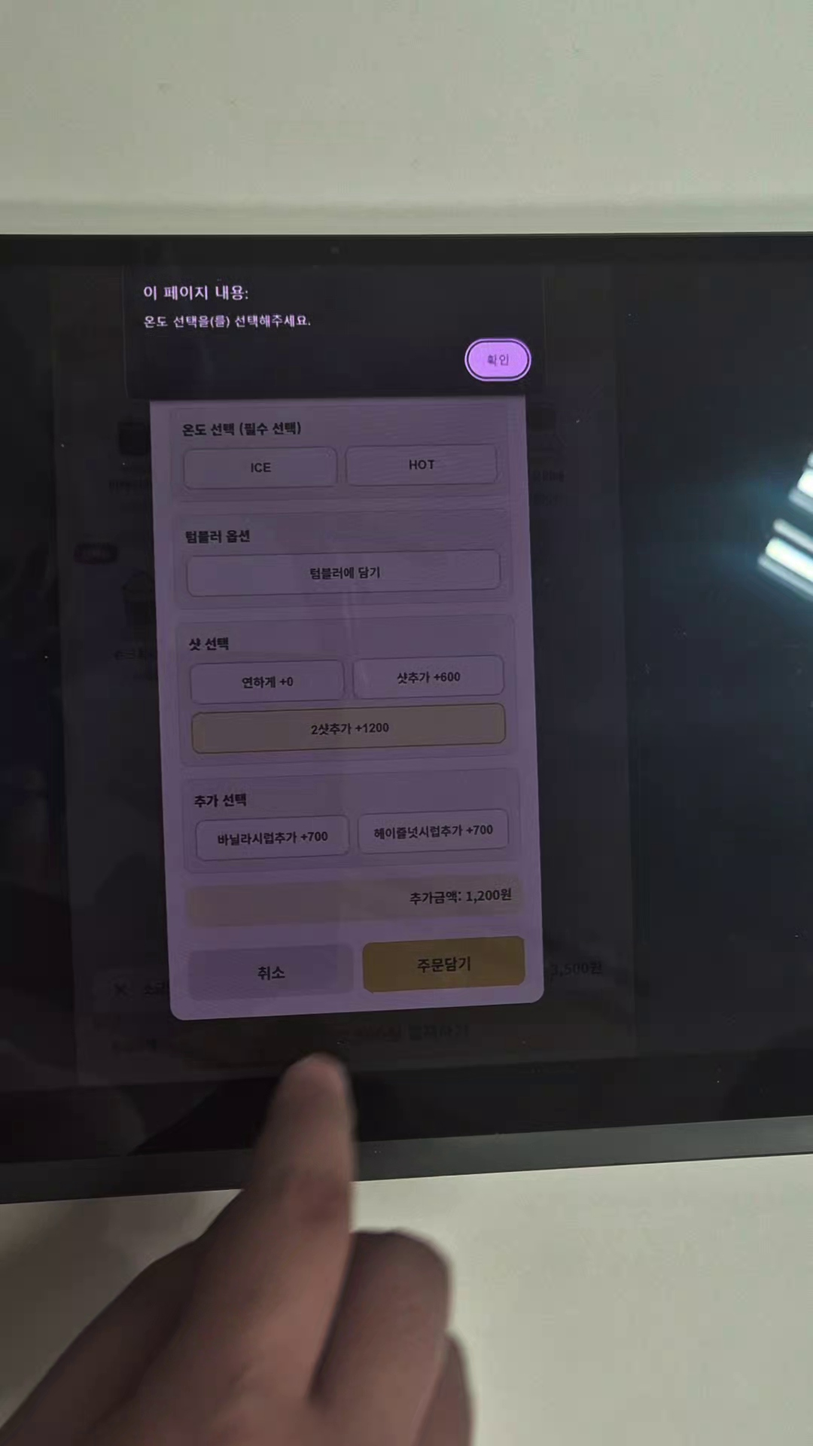action_button: (191, 946, 352, 1001), (364, 937, 525, 991)
option_button: (191, 704, 504, 752), (188, 550, 500, 595), (184, 445, 336, 490), (191, 662, 345, 704), (197, 818, 351, 860), (359, 812, 509, 853), (355, 659, 504, 698), (346, 447, 497, 485)
popup_modal: (152, 394, 547, 1021)
